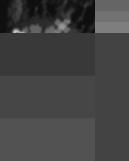breastplate: (95, 0, 129, 33)
eyeC: (0, 0, 95, 33)
gel: (95, 33, 129, 161)
helmet: (0, 33, 95, 161)
